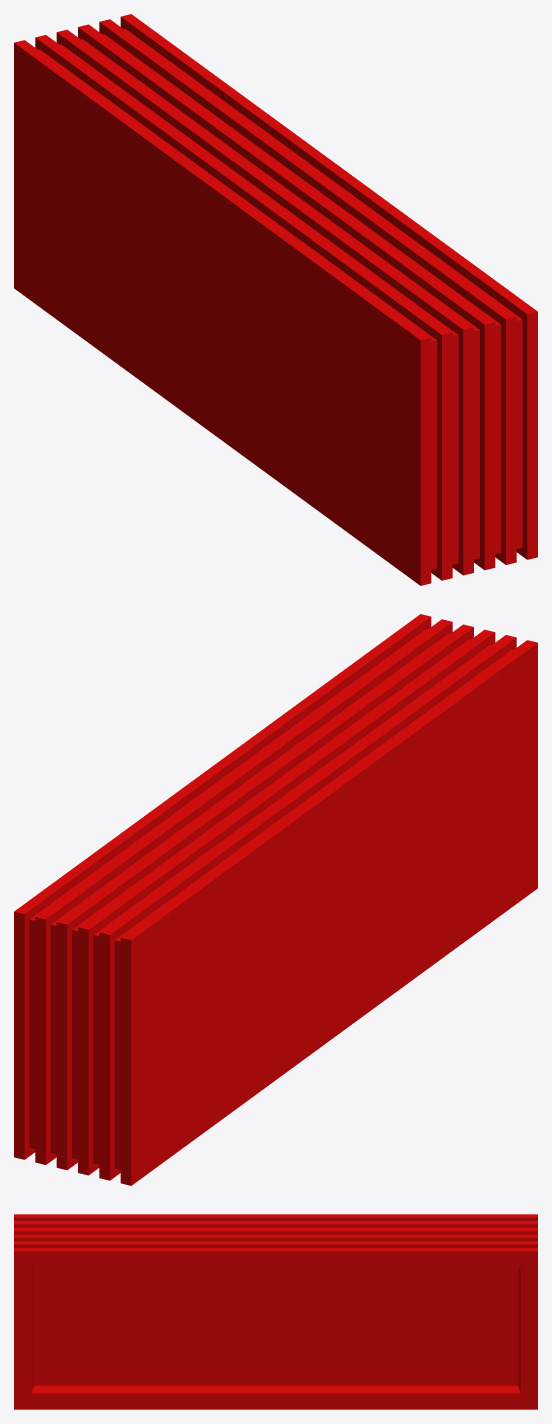
File: u2_lock.fbx
3 views of the same model, one above another, from view 1: azimuth 30°, elevation 25°; view 2: azimuth 150°, elevation 25°; view 3: azimuth 270°, elevation 25° (orthographic). The views are drawn at different scales.
Visible parts, largest first — view 1: lock_low.001; view 2: lock_low.001; view 3: lock_low.001.
Part boxes in pixels (box(x1,y1,x2,y2)): lock_low.001: box(14, 14, 537, 585); lock_low.001: box(14, 614, 537, 1185); lock_low.001: box(14, 1214, 537, 1409).
Bounding box in the file's own units: 5 × 10 × 30.
